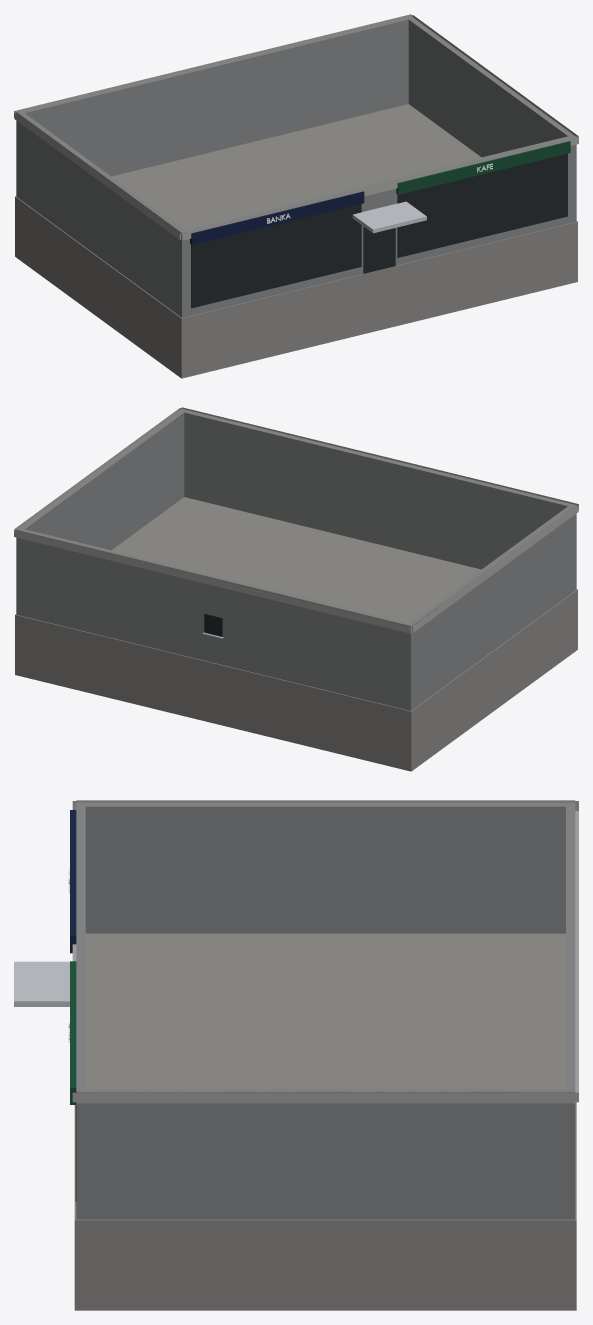
The model's file is bina_13_alt.glb.
3 renders of one model, top to bottom at view 1: azimuth 30°, elevation 25°; view 2: azimuth 150°, elevation 25°; view 3: azimuth 270°, elevation 25°, orthographic. The views are drawn at different scales.
Parts seen in each view (by area): view 1: P13_alt; view 2: P13_alt; view 3: P13_alt.
Part boxes in pixels (x1=…): P13_alt: x1=14, y1=14, x2=578, y2=378; P13_alt: x1=14, y1=407, x2=578, y2=771; P13_alt: x1=14, y1=800, x2=578, y2=1310.
Size of the model in its own units: 22.24 by 7.72 by 18.12.
